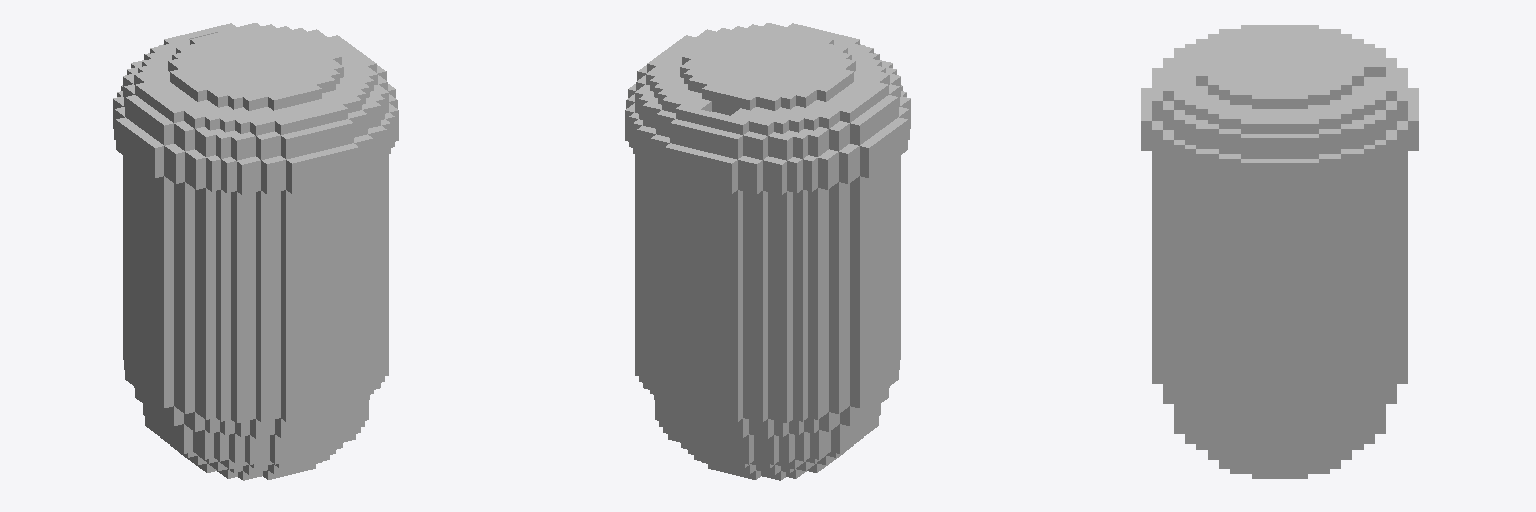
The model's file is Jumbo Cup.obj.
3 views of the same model, side by side, from view 1: azimuth 30°, elevation 25°; view 2: azimuth 150°, elevation 25°; view 3: azimuth 270°, elevation 25° (orthographic).
Visible parts, largest first — view 1: object 1; view 2: object 1; view 3: object 1.
Boxes of the visible parts, <box> form: object 1: <box>113,23,398,480</box>; object 1: <box>625,23,910,480</box>; object 1: <box>1141,25,1418,478</box>.
Size of the model in its own units: 2.5 by 3.8 by 2.5.